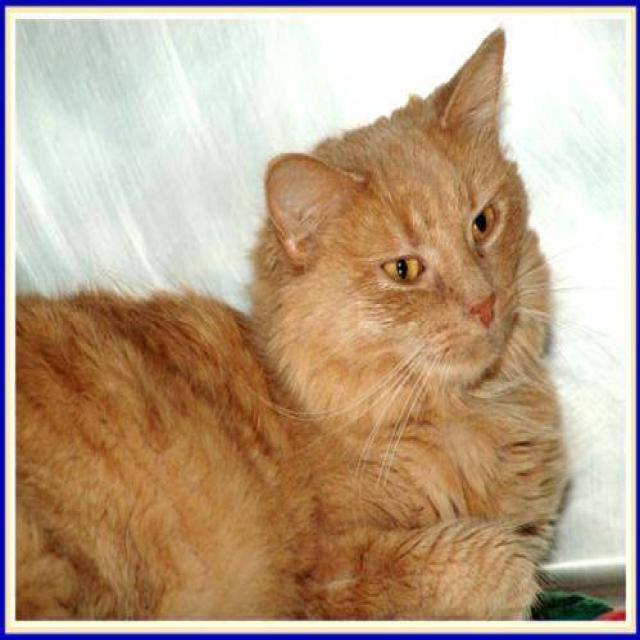cat: (14, 24, 572, 619)
